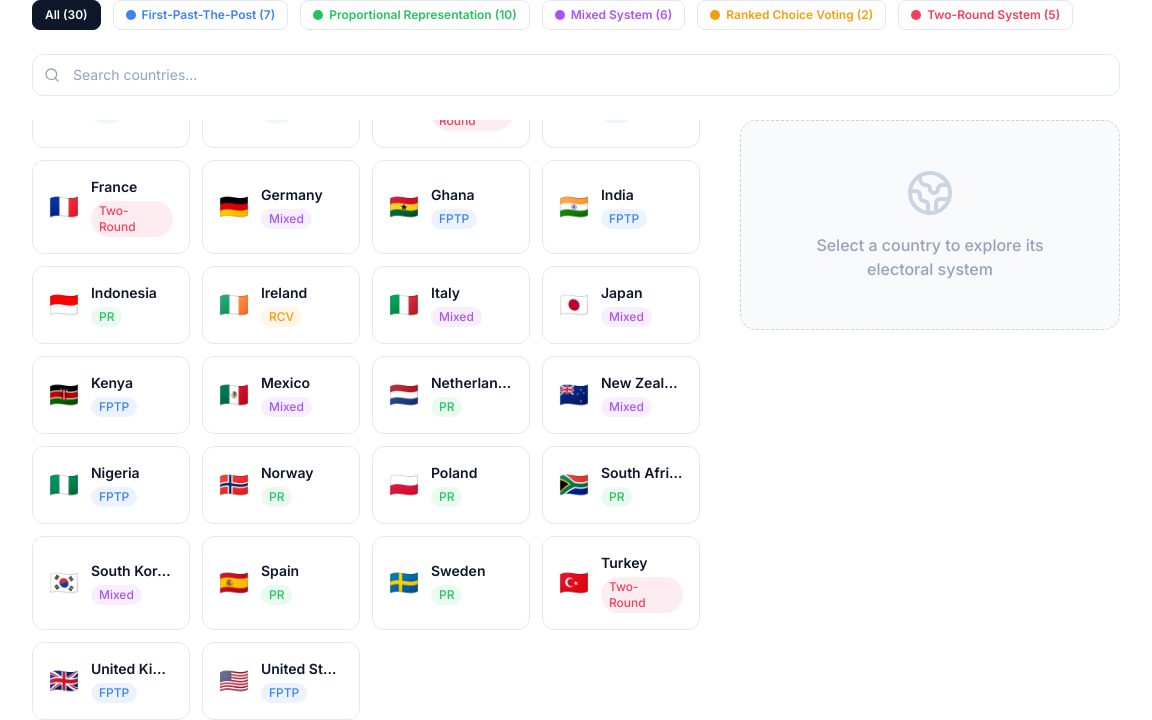
Test: WorldElectionMap Component › selects a country and displays details
(page scrolled)
# We'll just click the last button assuming it's a country card
Step 1. Click the button "🇺🇸 United States FPTP" → (281, 681), box [202,642,360,719]
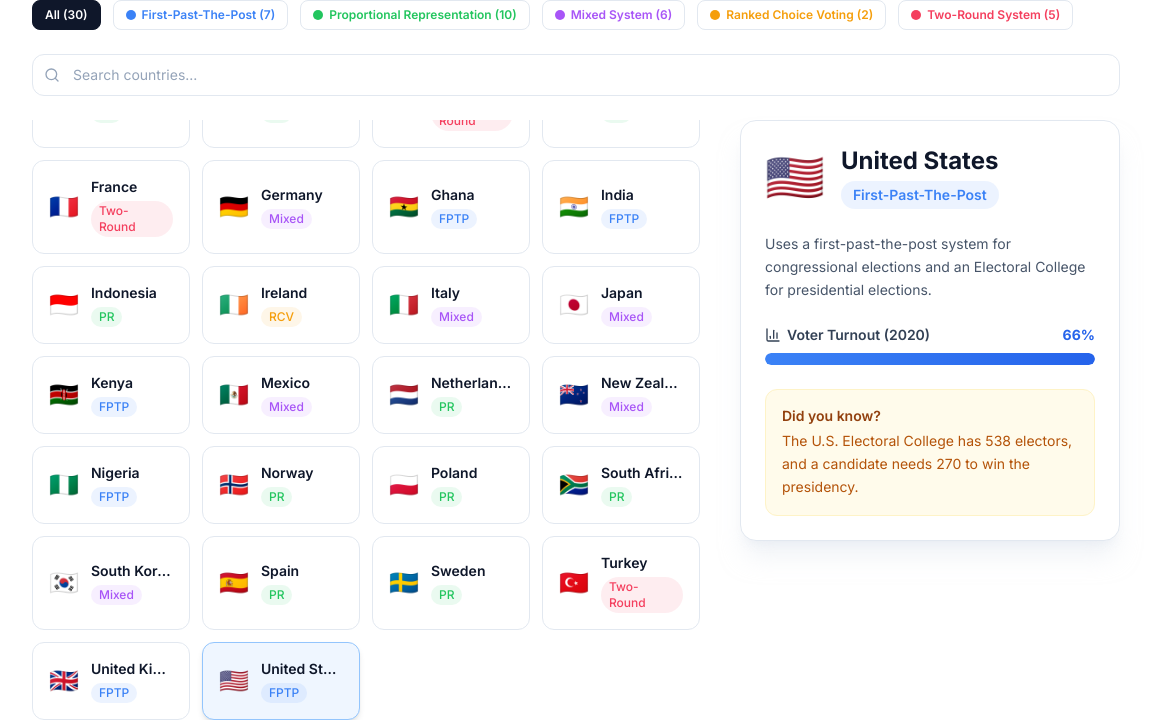
Check: the text "Did you know?" is shown, box [782,407,881,424]
